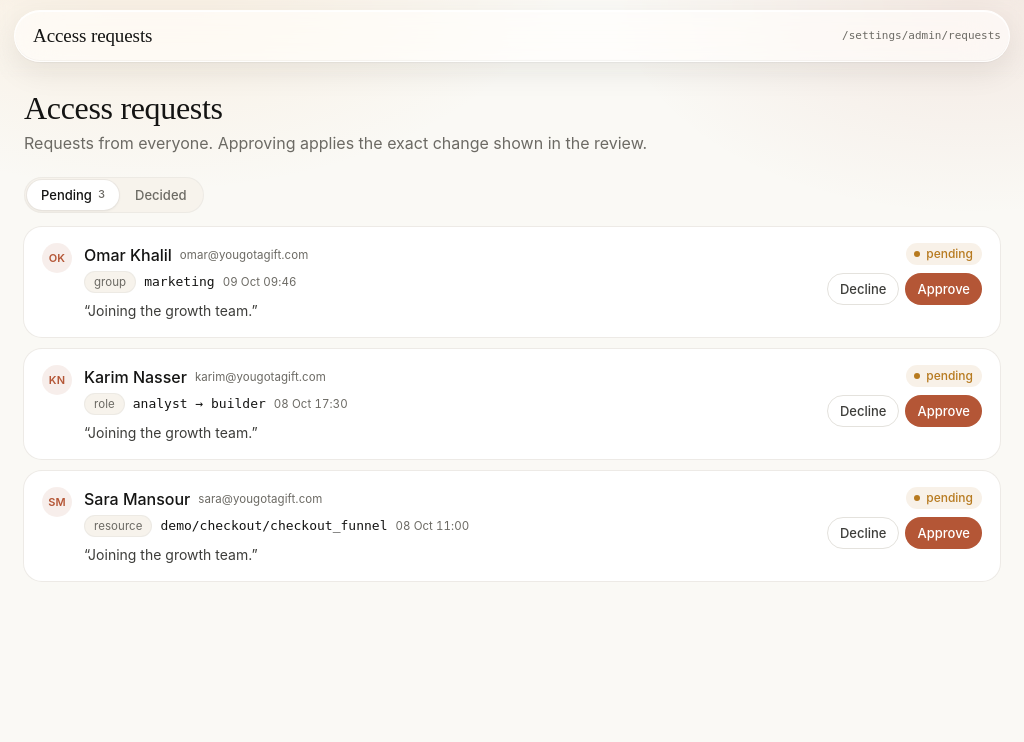
AdminRequestsPage › approving a role request reviews the role change
The image size is (1024, 742).
Click the button "Approve" in the row of "08 Oct 17:30" at (944, 411), box x1=906 y1=395 x2=982 y2=427
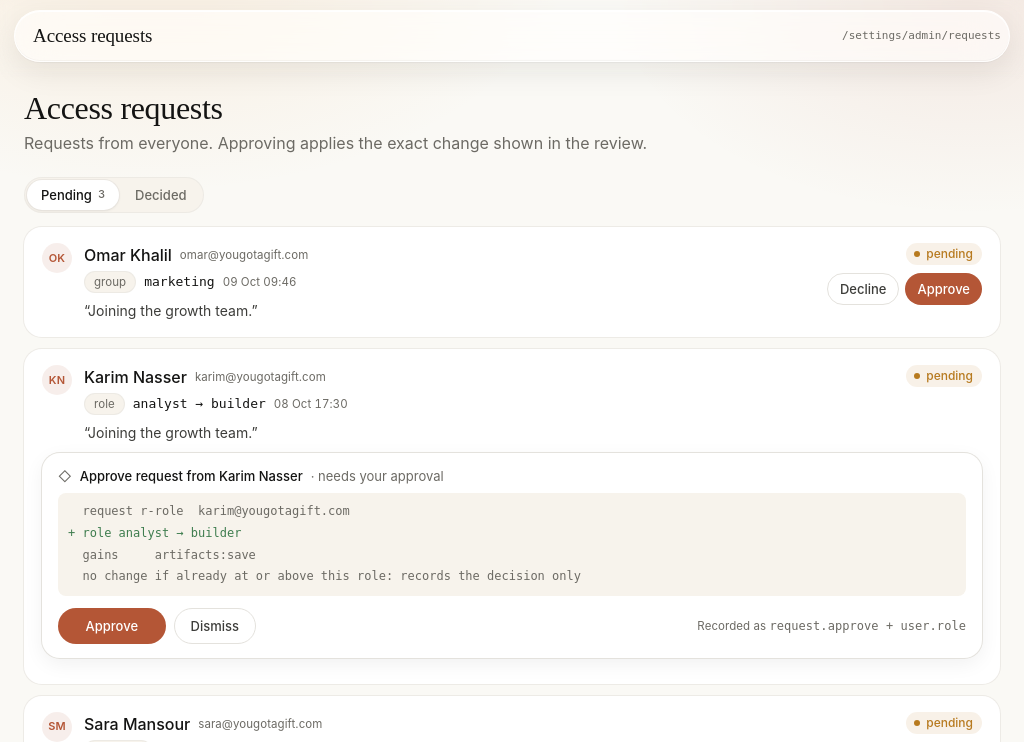
Expected: the text "request.approve + user.role" is shown, x1=769 y1=619 x2=966 y2=633
